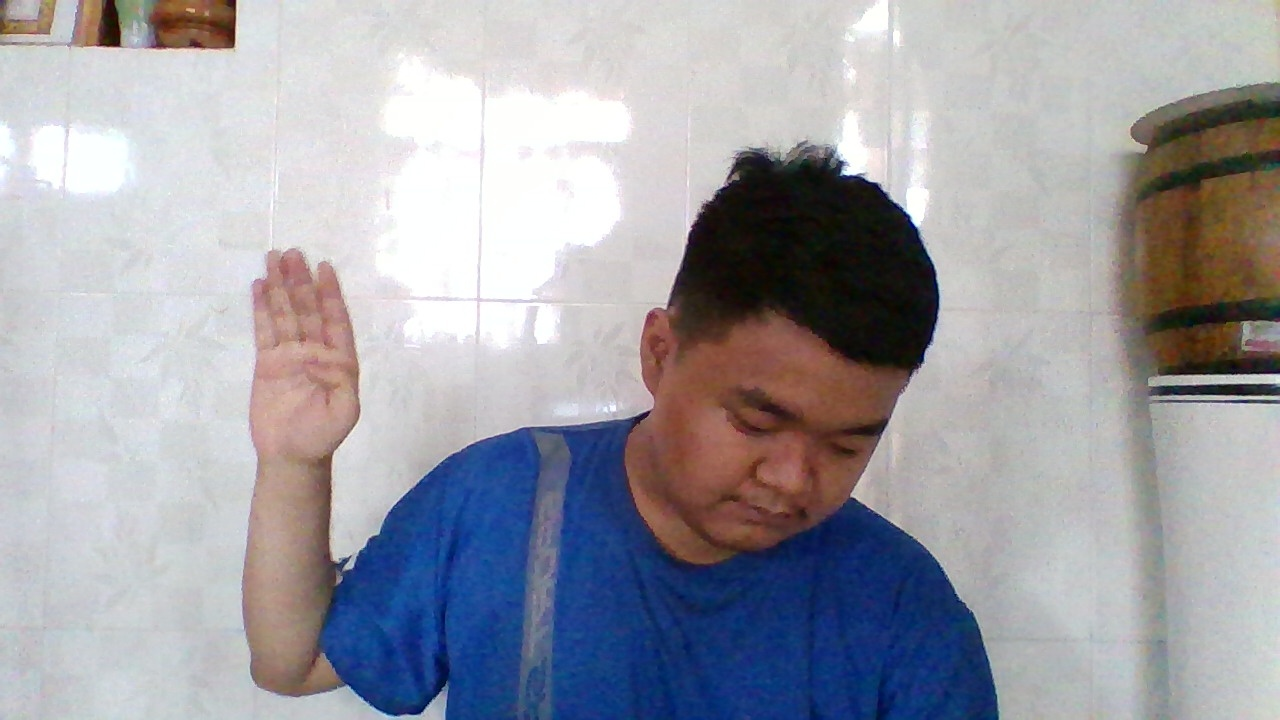B: (239, 241, 366, 478)
